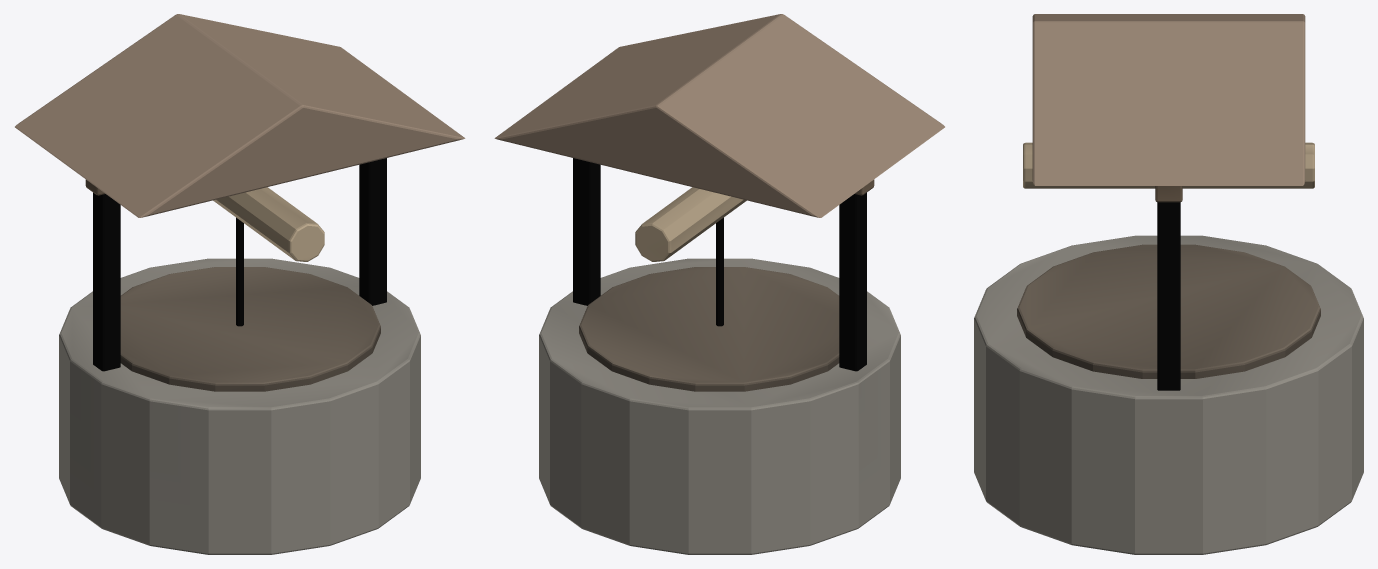
The model's file is well.glb.
3 views of the same model, side by side, from view 1: azimuth 30°, elevation 25°; view 2: azimuth 150°, elevation 25°; view 3: azimuth 270°, elevation 25° (orthographic). The views are drawn at different scales.
Visible parts, largest first — view 1: ring; view 2: ring; view 3: ring.
Boxes of the visible parts, x1=… form: ring: x1=15, y1=14, x2=465, y2=554; ring: x1=494, y1=14, x2=944, y2=554; ring: x1=974, y1=14, x2=1363, y2=554.
Bounding box in the file's own units: 2.09 × 2.57 × 2.
